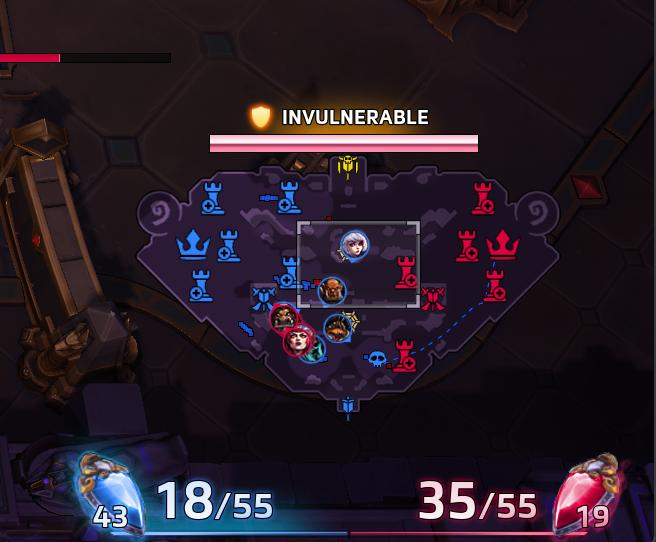blue nexus: (174, 227, 212, 260)
blue player: (339, 229, 369, 260), (323, 313, 353, 343), (297, 335, 327, 364), (317, 276, 346, 305)
blue tower: (275, 254, 306, 290), (276, 179, 302, 214), (200, 180, 225, 215), (216, 227, 241, 262), (188, 267, 213, 302)
red nexus: (485, 228, 520, 260)
red player: (281, 324, 314, 356), (268, 302, 301, 333)
red tower: (390, 338, 417, 372), (393, 254, 418, 289), (454, 228, 479, 262), (470, 180, 494, 215), (483, 267, 507, 302)
